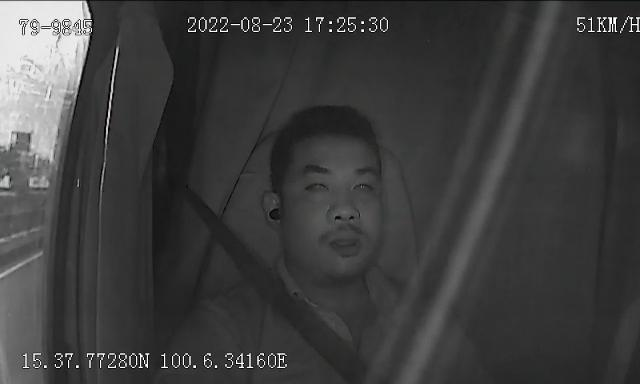SafeDriving: (300, 168, 334, 200), (347, 168, 381, 199)
Seatbelt: (182, 186, 364, 384)
